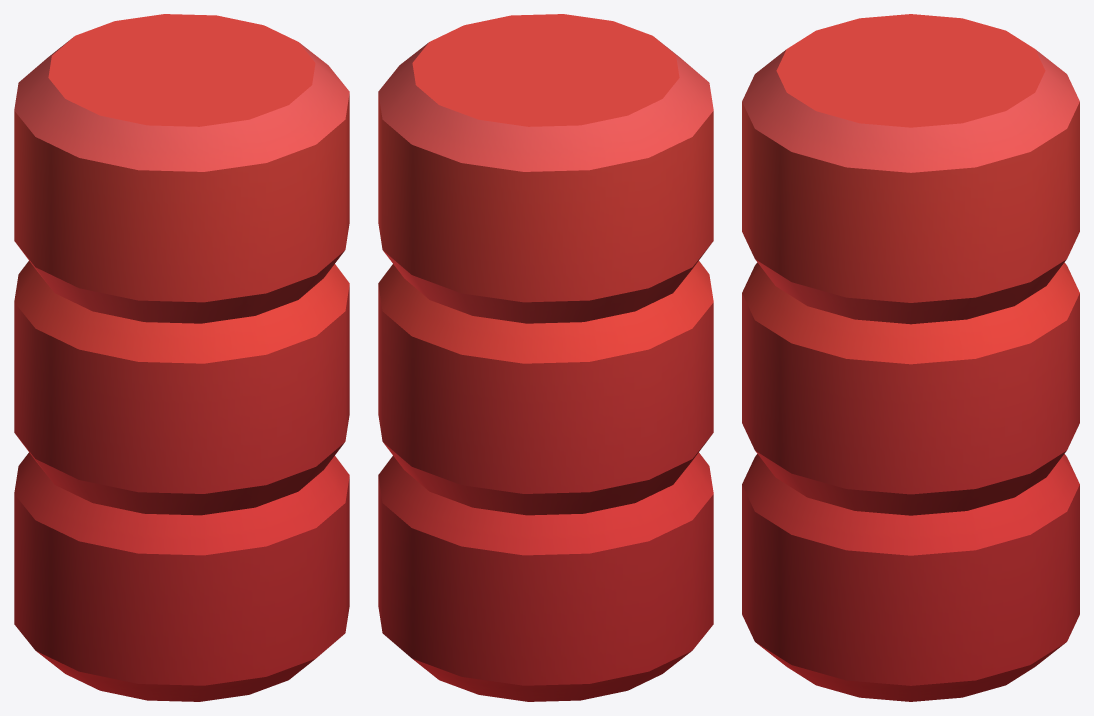
Rendered from Barrier_02.fbx.
The picture shows the model from 3 angles, left to right: view 1: azimuth 30°, elevation 25°; view 2: azimuth 150°, elevation 25°; view 3: azimuth 270°, elevation 25°; orthographic projection.
Parts seen in each view (by area): view 1: Barrier_02; view 2: Barrier_02; view 3: Barrier_02.
Boxes of the visible parts, bbox=[...] form: Barrier_02: bbox=[14, 14, 349, 701]; Barrier_02: bbox=[378, 14, 713, 701]; Barrier_02: bbox=[742, 14, 1079, 701].
Size of the model in its own units: 150 by 150 by 281.
